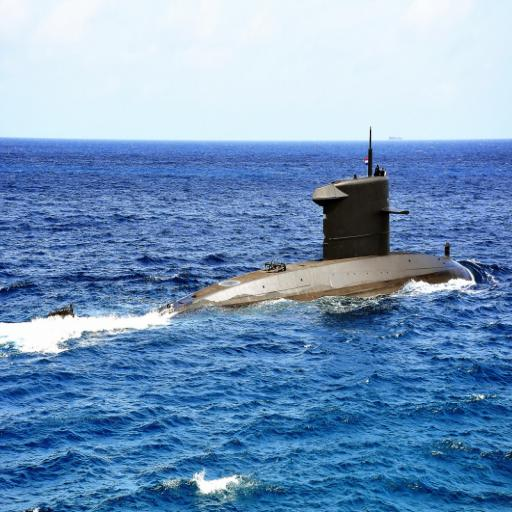submarine: (60, 178, 483, 334)
